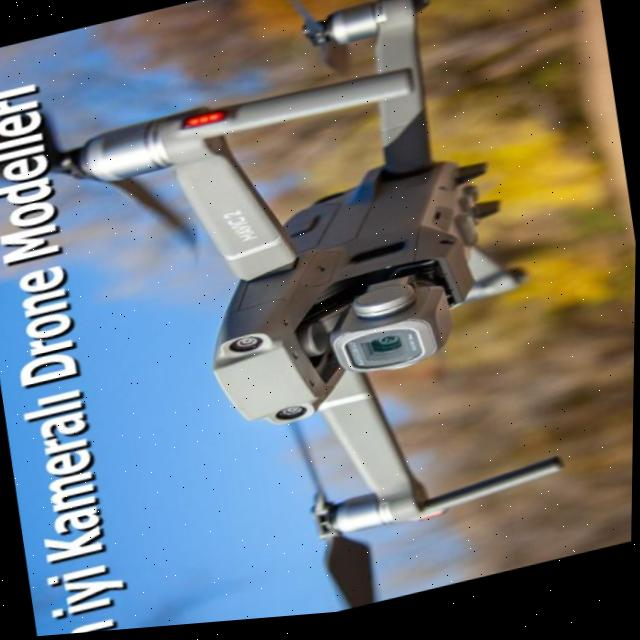drones: (6, 0, 569, 639)
